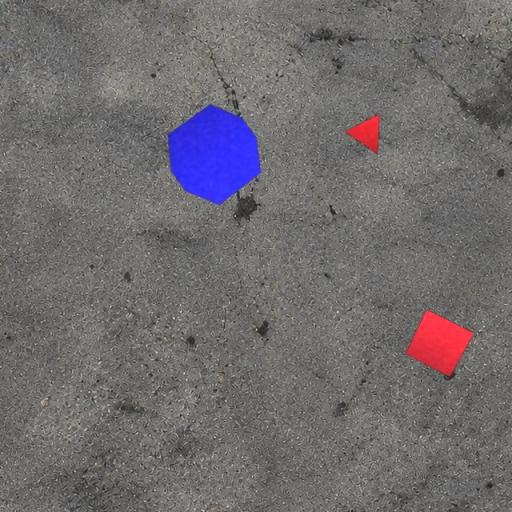RED_SQUARE: (405, 308, 474, 378)
